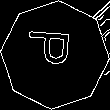P_E: (29, 35, 81, 75)
